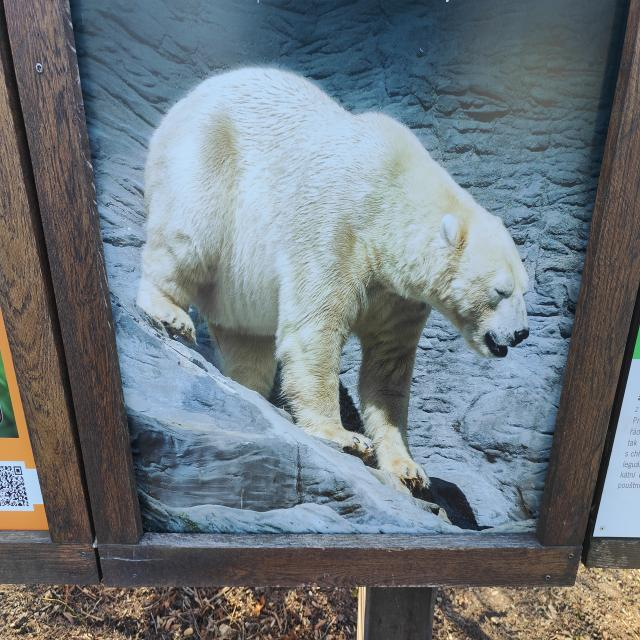bear: (136, 64, 530, 494)
